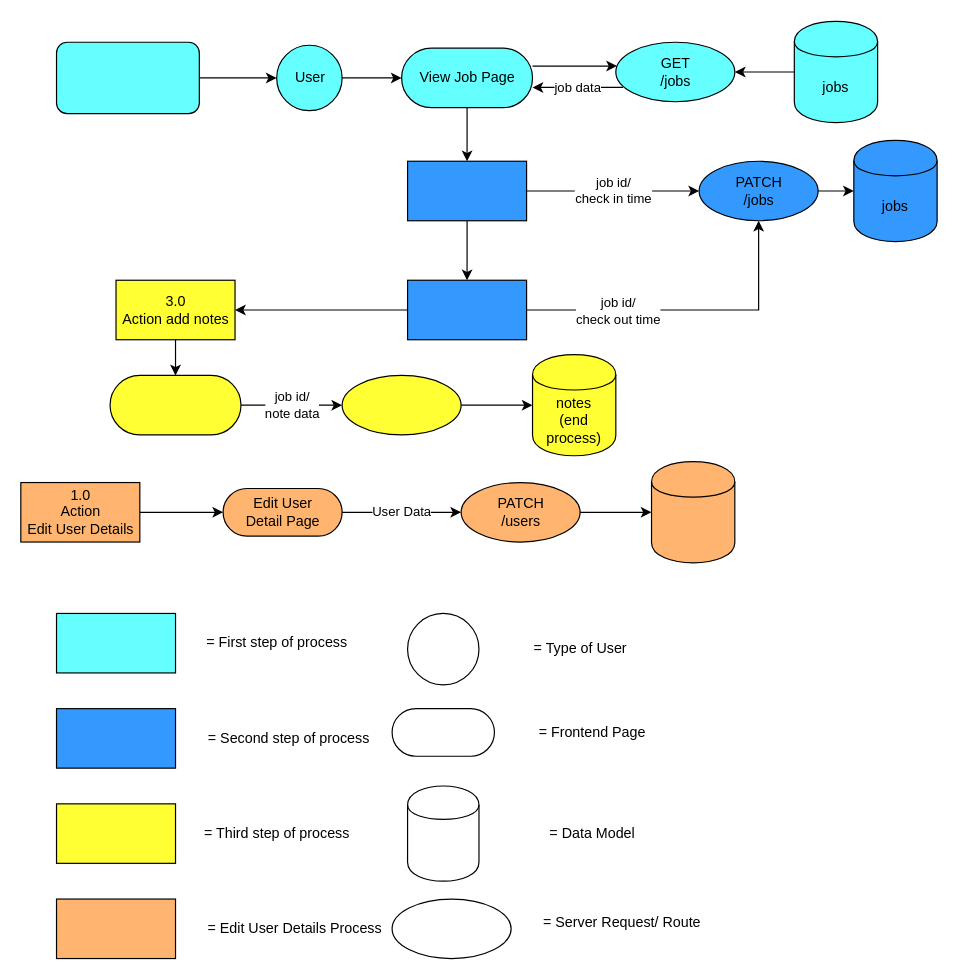
Image size: 958x979. Some labels were removed from this diagram. Here are the shapes that lost their labels. From the top down, the box of each, then its label:
(55, 41, 199, 114): 1.0 Action View Jobs
(406, 160, 527, 221): 2.0 Check in
(406, 279, 527, 340): 2.1 Check out
(109, 374, 241, 435): On click "Edit Job" Button
(341, 374, 461, 435): POST /notes
(650, 461, 735, 563): users
